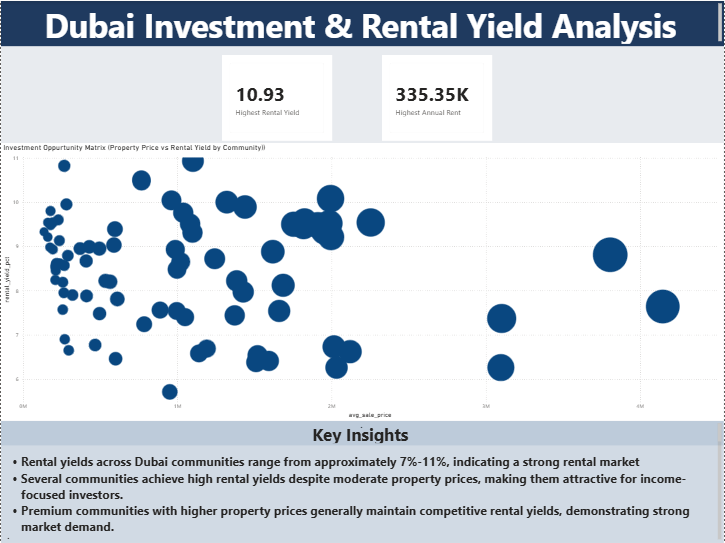

The dashboard page shown, as its layout file describes it:
{"tool":"powerbi","page":{"name":"Investment Analysis","canvas":[1600,1200],"ordinal":1},"visuals":[{"type":"textbox","box":[0,0,1600.7,99.6],"z":0},{"type":"cardVisual","fields":{"Data":["uae_real_estate vw_rental_yield.Highest Rental Yield"]},"box":[490.2,119.5,243.9,190.2],"z":1000},{"type":"cardVisual","fields":{"Data":["uae_real_estate vw_rental_yield.Highest Annual Rent"]},"box":[843.9,119.5,243.9,190.2],"z":2000},{"type":"scatterChart","title":"Investment Oppurtunity Matrix (Property Price vs Rental Yield by Community))","fields":{"X":["uae_real_estate vw_rental_yield.avg_sale_price"],"Y":["uae_real_estate vw_rental_yield.rental_yield_pct"],"Size":["Sum(uae_real_estate vw_rental_yield.avg_annual_rent)"]},"box":[0,314.6,1600,614.6],"z":3000},{"type":"textbox","box":[0,930,1600,270],"z":3001},{"type":"textbox","box":[0,929.3,1600,53.7],"z":3002}]}

Visuals, with their boxes in screenshot pixels (x1, y1, x2, y2), scaled from the page's 1600x1200 canvas onto the 725x543 screenshot:
textbox: [x1=0, y1=0, x2=724, y2=45]
cardVisual - uae_real_estate vw_rental_yield.Highest Rental Yield: [x1=222, y1=54, x2=333, y2=140]
cardVisual - uae_real_estate vw_rental_yield.Highest Annual Rent: [x1=382, y1=54, x2=493, y2=140]
"Investment Oppurtunity Matrix (Property Price vs Rental Yield by Community))" scatterChart: [x1=0, y1=142, x2=724, y2=420]
textbox: [x1=0, y1=421, x2=724, y2=542]
textbox: [x1=0, y1=421, x2=724, y2=445]
